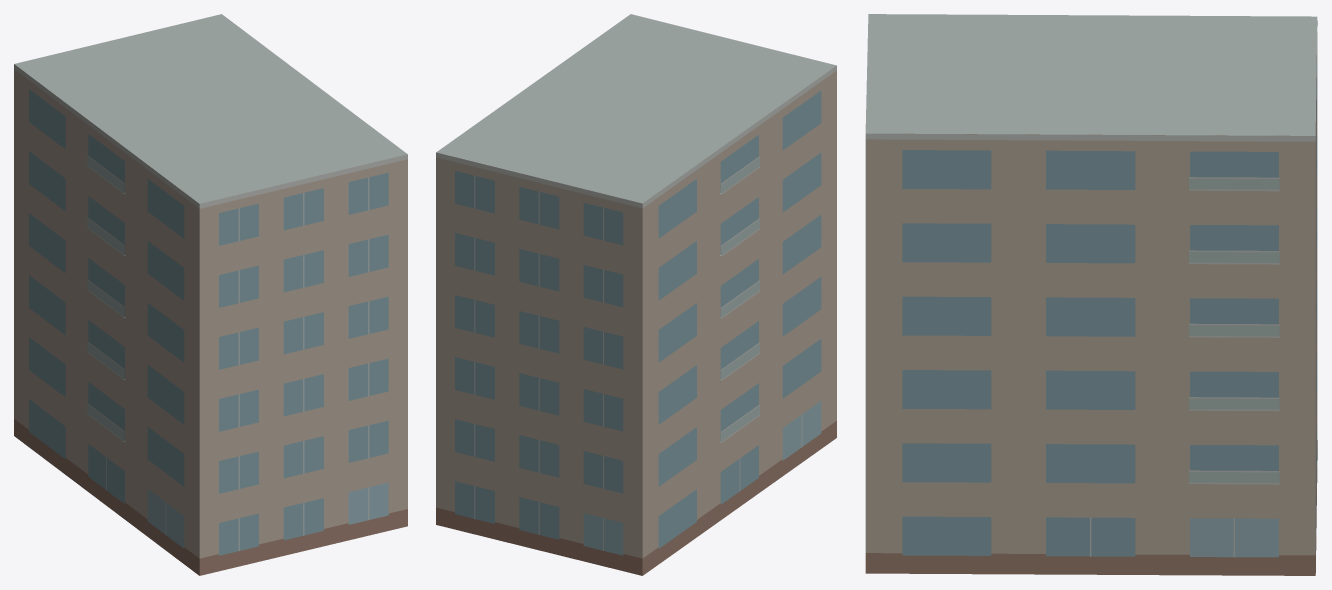
File: survey-upis-32632007.glb
3 views of the same model, side by side, from view 1: azimuth 30°, elevation 25°; view 2: azimuth 150°, elevation 25°; view 3: azimuth 270°, elevation 25° (orthographic). The views are drawn at different scales.
Parts seen in each view (by area): view 1: survey-upis-32632007.tmp; view 2: survey-upis-32632007.tmp; view 3: survey-upis-32632007.tmp.
Boxes of the visible parts, x1,y1,x2,y2 form: survey-upis-32632007.tmp: (14,14,407,575); survey-upis-32632007.tmp: (436,14,836,575); survey-upis-32632007.tmp: (865,14,1317,575).
Size of the model in its own units: 10.9 by 18.3 by 17.04.
